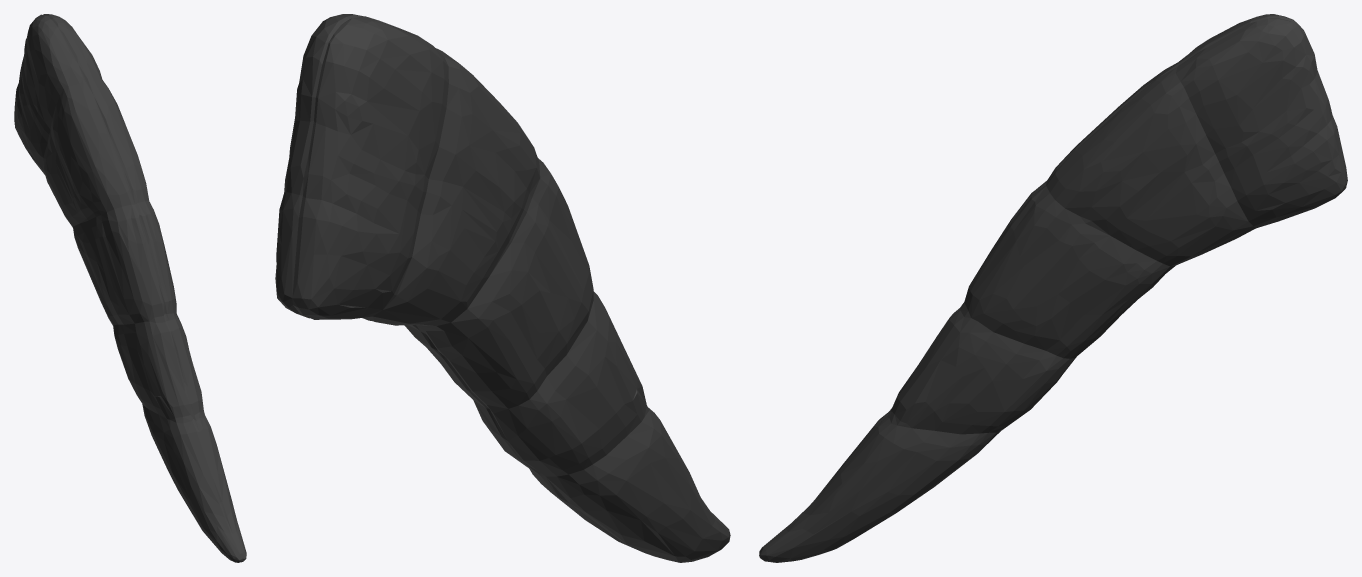
File: m_spinalis_cervicis.glb
3 renders of one model, left to right at view 1: azimuth 30°, elevation 25°; view 2: azimuth 150°, elevation 25°; view 3: azimuth 270°, elevation 25°, orthographic. The views are drawn at different scales.
Visible parts, largest first — view 1: m_spinalis_cervicis; view 2: m_spinalis_cervicis; view 3: m_spinalis_cervicis.
Part boxes in pixels (left/top/right/bottom): m_spinalis_cervicis: left=14, top=14, right=246, bottom=562; m_spinalis_cervicis: left=275, top=14, right=730, bottom=562; m_spinalis_cervicis: left=759, top=14, right=1347, bottom=562.
Size of the model in its own units: 0.000491 by 0.00329 by 0.00323.
Materials: 1 (1 with a texture image).
